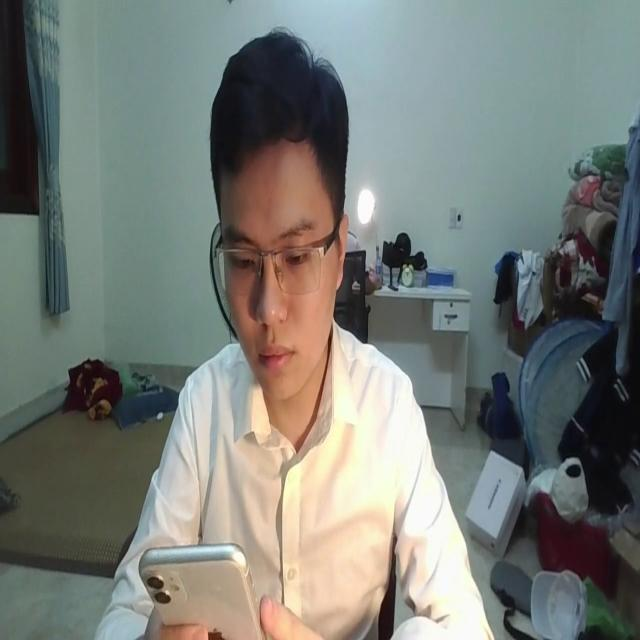phone: (136, 528, 262, 640)
student: (92, 28, 494, 640)
